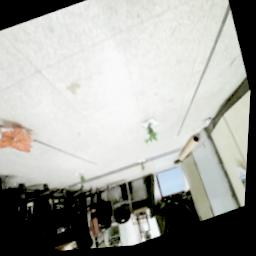herb: (142, 122, 163, 150), (80, 172, 91, 190), (141, 162, 150, 176)
wild: (1, 121, 43, 166)
